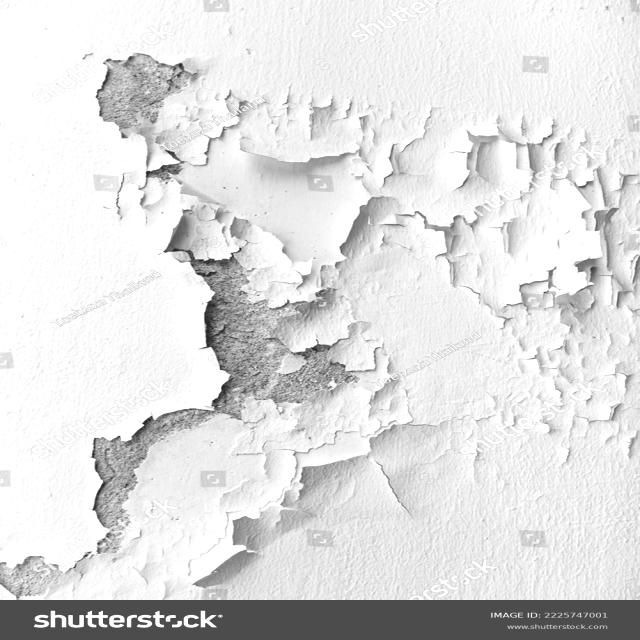peeling paint: (0, 46, 640, 598)
